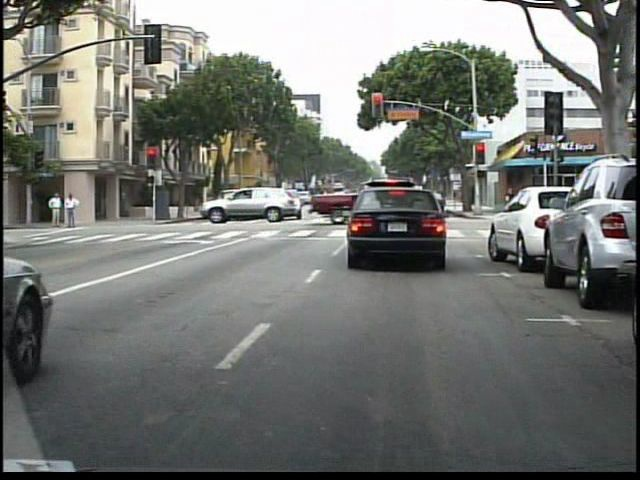person: (44, 189, 62, 232), (62, 191, 79, 231)
